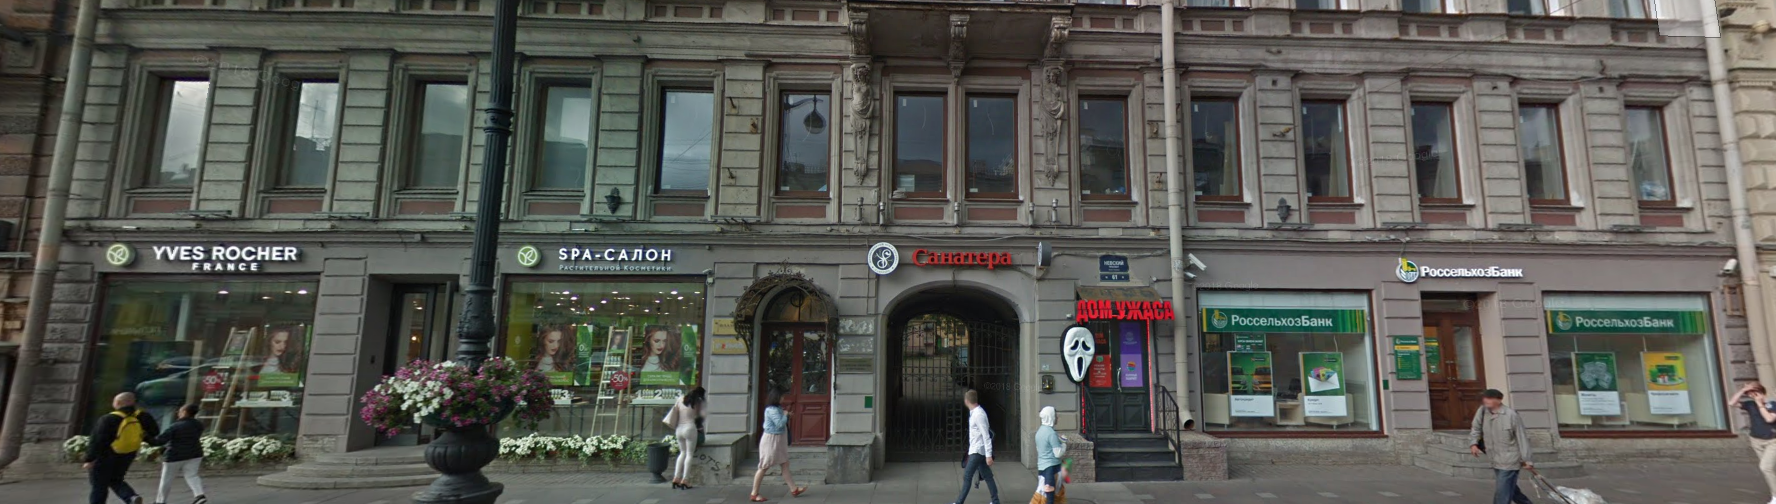arch: (874, 282, 1035, 477)
door: (1071, 321, 1156, 436), (1418, 294, 1488, 432), (758, 321, 828, 445)
signboard: (91, 230, 315, 275), (859, 239, 1025, 283), (507, 234, 677, 275), (1387, 251, 1530, 287), (1073, 294, 1176, 328)
win_ad: (1204, 306, 1363, 335), (1548, 310, 1706, 336), (1297, 351, 1354, 422), (1571, 349, 1626, 417), (1638, 352, 1696, 415), (1226, 345, 1274, 417)
window: (97, 276, 313, 452), (504, 277, 699, 444), (1195, 284, 1384, 443), (1537, 292, 1730, 435), (510, 74, 594, 223), (138, 70, 213, 208), (651, 69, 712, 223), (264, 70, 328, 212), (771, 86, 837, 220), (394, 72, 456, 213), (886, 93, 956, 217), (1069, 79, 1133, 210), (1407, 94, 1472, 217), (1517, 91, 1576, 214), (1299, 91, 1354, 221), (1621, 101, 1679, 223), (1192, 97, 1249, 215), (965, 89, 1017, 213)
